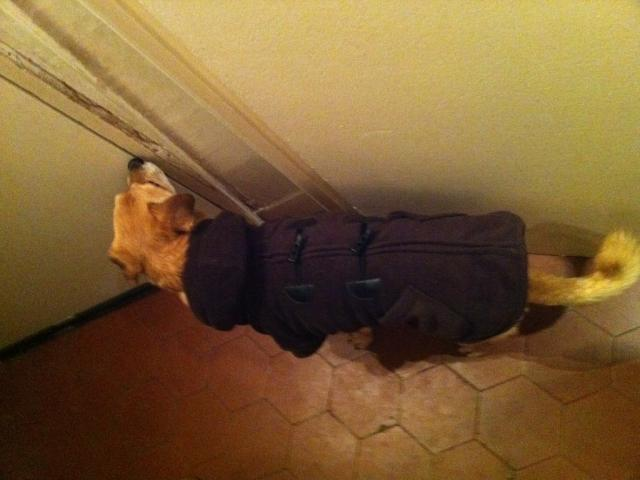Dog: (105, 159, 639, 372)
